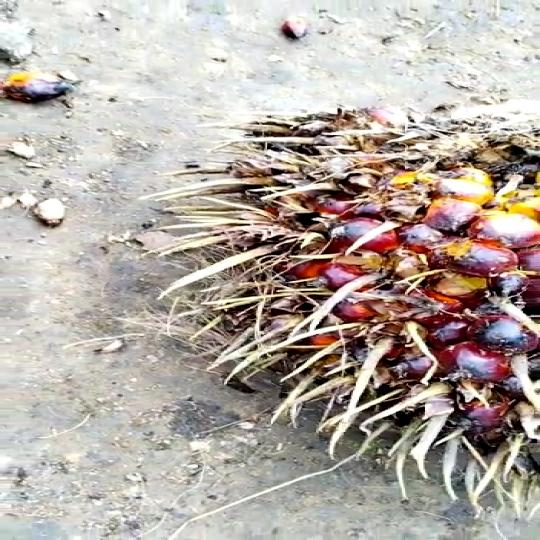masak: (163, 103, 540, 486)
